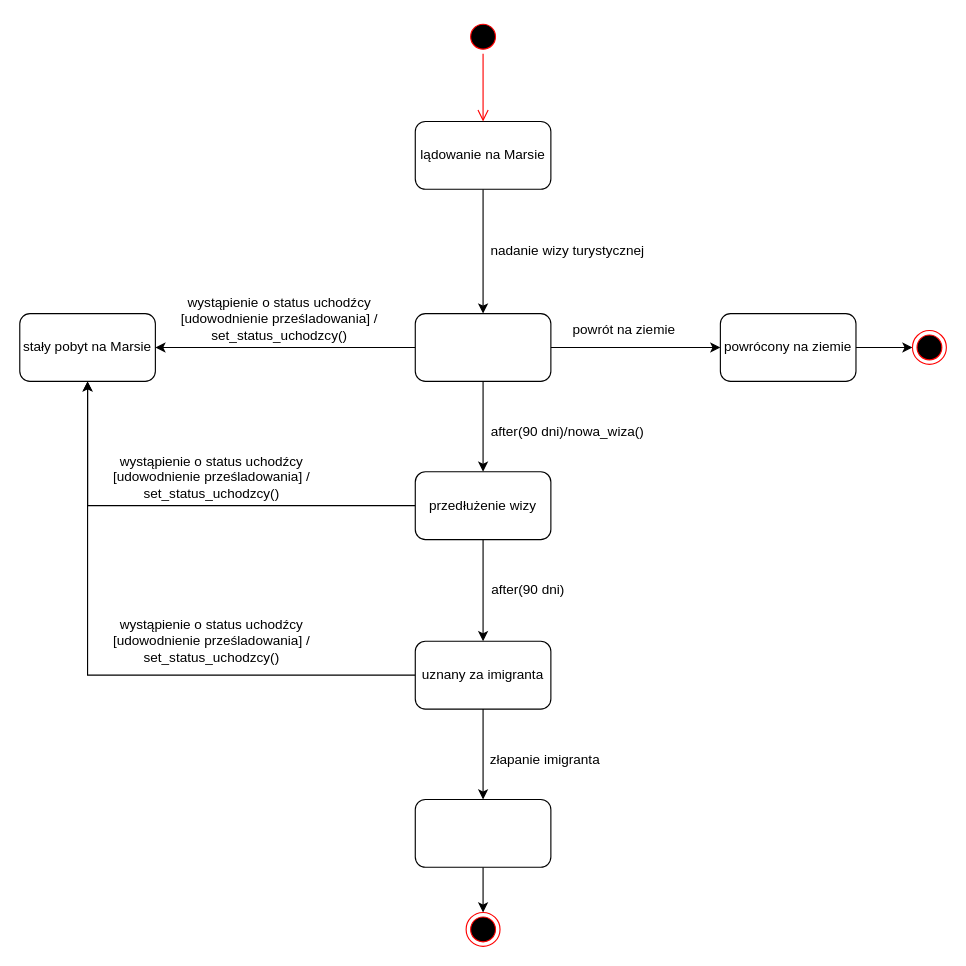
Some shapes in this 966 by 966 pixel diagram are drawn without their labels. Each missing label, with the centre of its shape:
"deportacja" goes at [482,832].
"pobyt na Marsie" goes at [482,346].
